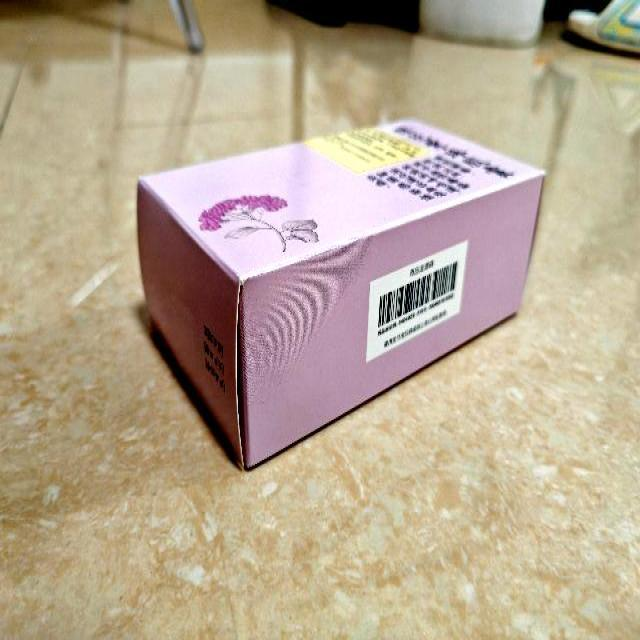box: (135, 120, 548, 470)
